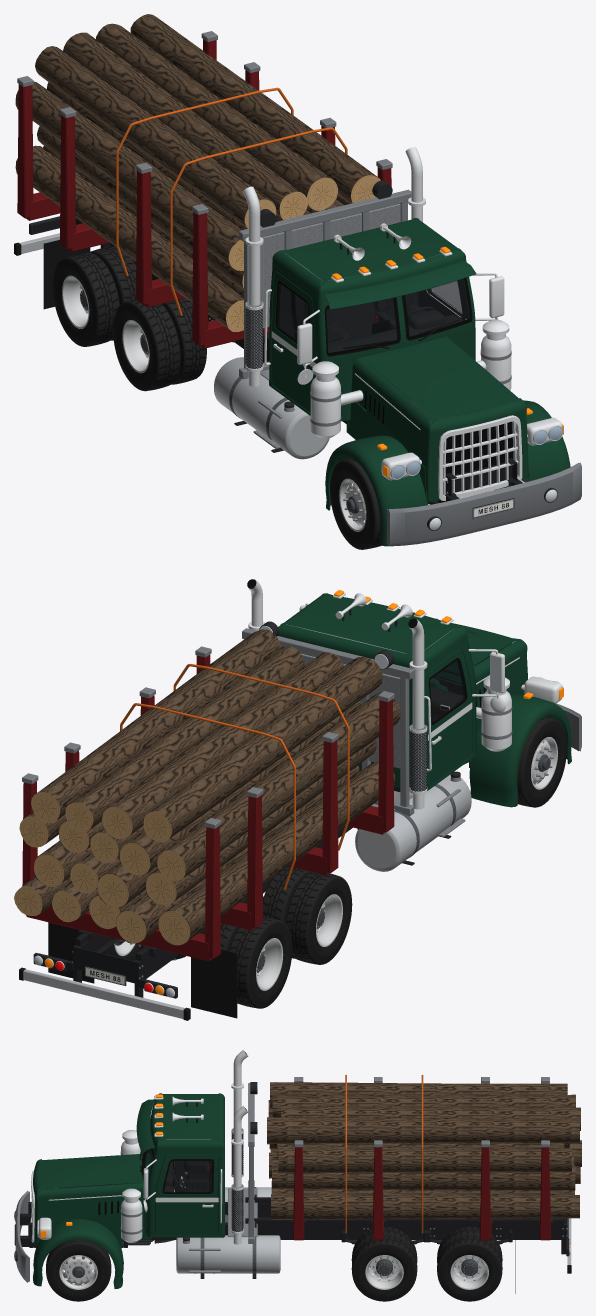
File: logging-truck.glb
The picture shows the model from 3 angles, top to bottom: view 1: azimuth 30°, elevation 25°; view 2: azimuth 150°, elevation 25°; view 3: azimuth 270°, elevation 25°; orthographic projection. The views are drawn at different scales.
Parts seen in each view (by area): view 1: Body, Wheel_2_Right, Wheel_3_Right, Wheel_1_Right; view 2: Body, Wheel_2_Right, Wheel_3_Right, Wheel_1_Right; view 3: Body, Wheel_3_Left, Wheel_2_Left, Wheel_1_Left.
Part boxes in pixels (box(x1,y1,x2,y2)): Body: box(14, 14, 581, 546); Wheel_2_Right: box(113, 298, 206, 391); Wheel_3_Right: box(52, 246, 136, 346); Wheel_1_Right: box(330, 458, 381, 549); Body: box(14, 579, 581, 1020); Wheel_2_Right: box(263, 866, 352, 964); Wheel_3_Right: box(220, 916, 292, 1008); Wheel_1_Right: box(517, 716, 566, 807); Body: box(14, 1050, 581, 1293); Wheel_3_Left: box(437, 1227, 502, 1301); Wheel_2_Left: box(351, 1227, 417, 1301); Wheel_1_Left: box(46, 1240, 111, 1301).
Size of the model in its own units: 2.68 by 3.35 by 9.
56 materials, 17 textured.
